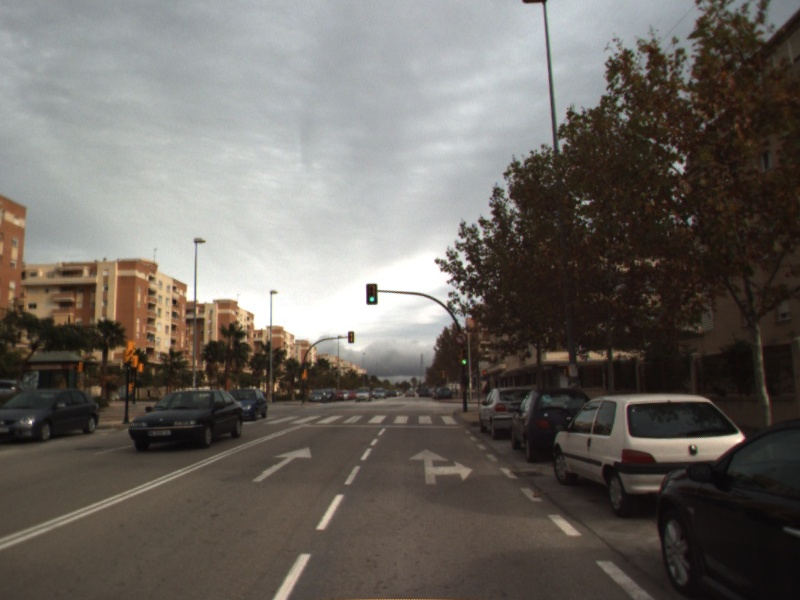STRAIGHT: (250, 445, 313, 484)
STRAIGHT_RIGHT: (407, 446, 475, 486)
